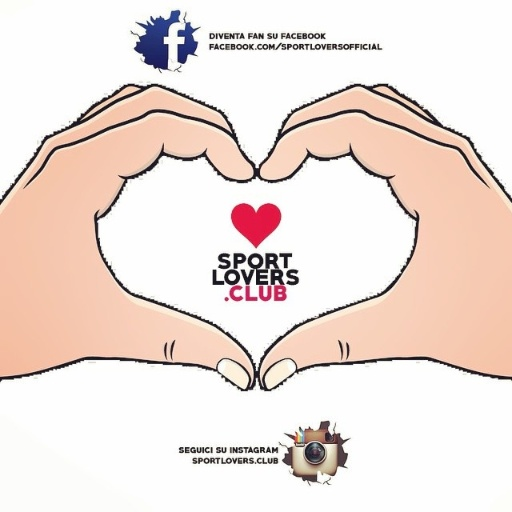hand: (254, 81, 511, 393), (0, 80, 253, 388)
